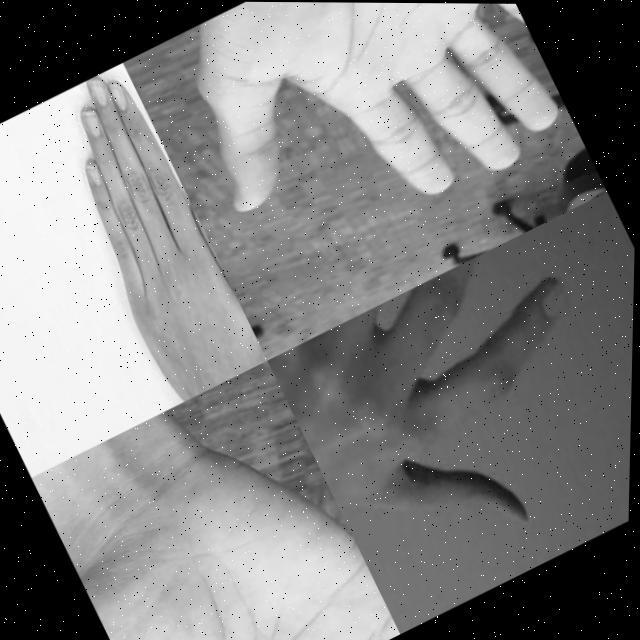no-gloves: (264, 224, 636, 600), (149, 1, 582, 288), (24, 62, 273, 406), (53, 405, 406, 640)
